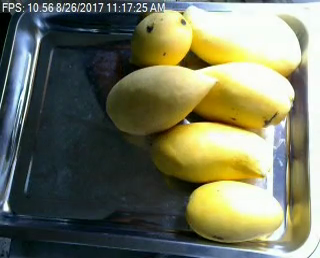Mango: (181, 5, 300, 76), (107, 66, 215, 135), (153, 120, 270, 179), (189, 62, 293, 128), (185, 178, 282, 241), (132, 10, 191, 69)
